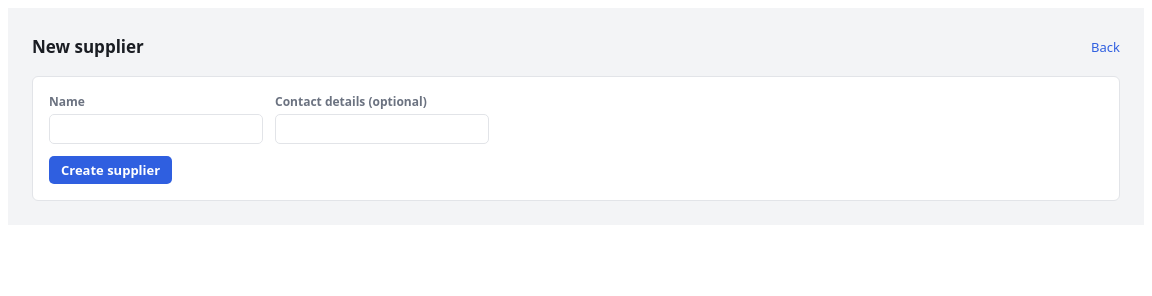
it: SupplierDetailScreen › create mode › preserves entered values after an IPC error
Step 1. Type "Acme Foods" into the field labelled "Name" → (156, 129), box [49, 114, 263, 144]
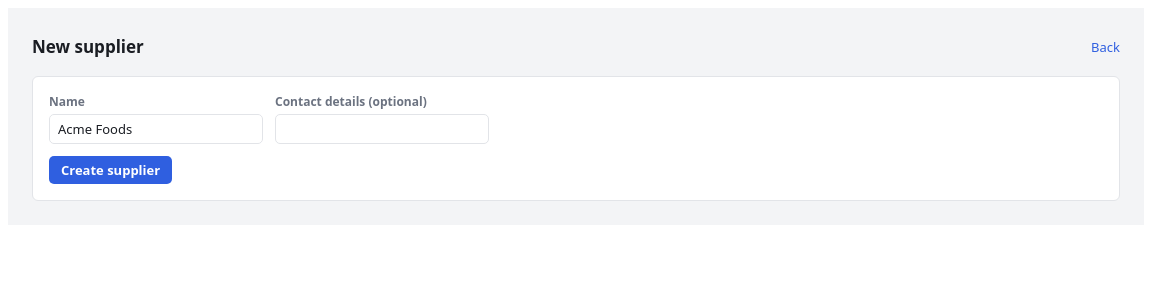
Step 2. Type "buyer@acme.com" into the field labelled "Contact details (optional)" → (382, 129), box [275, 114, 489, 144]
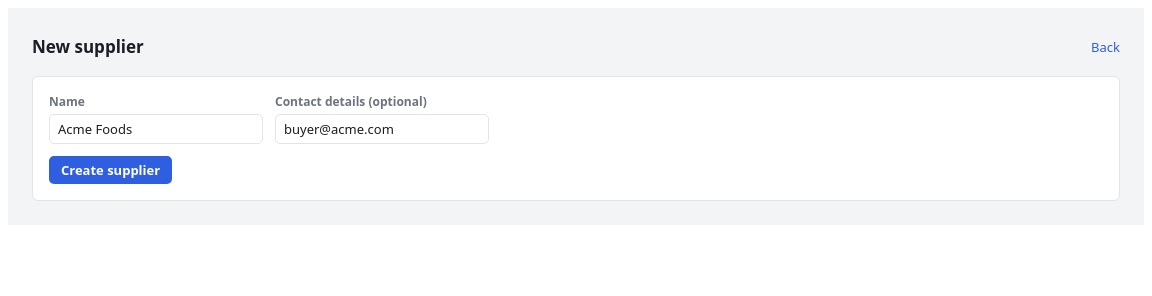
Step 3. Click the button "Create supplier" → (111, 170), box [49, 156, 172, 184]
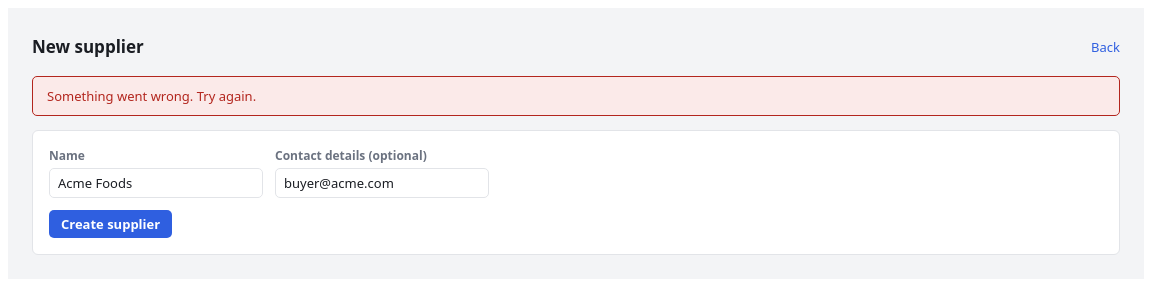
Result: the text "Something went wrong. Try again." is shown at [32, 76, 1120, 116]
